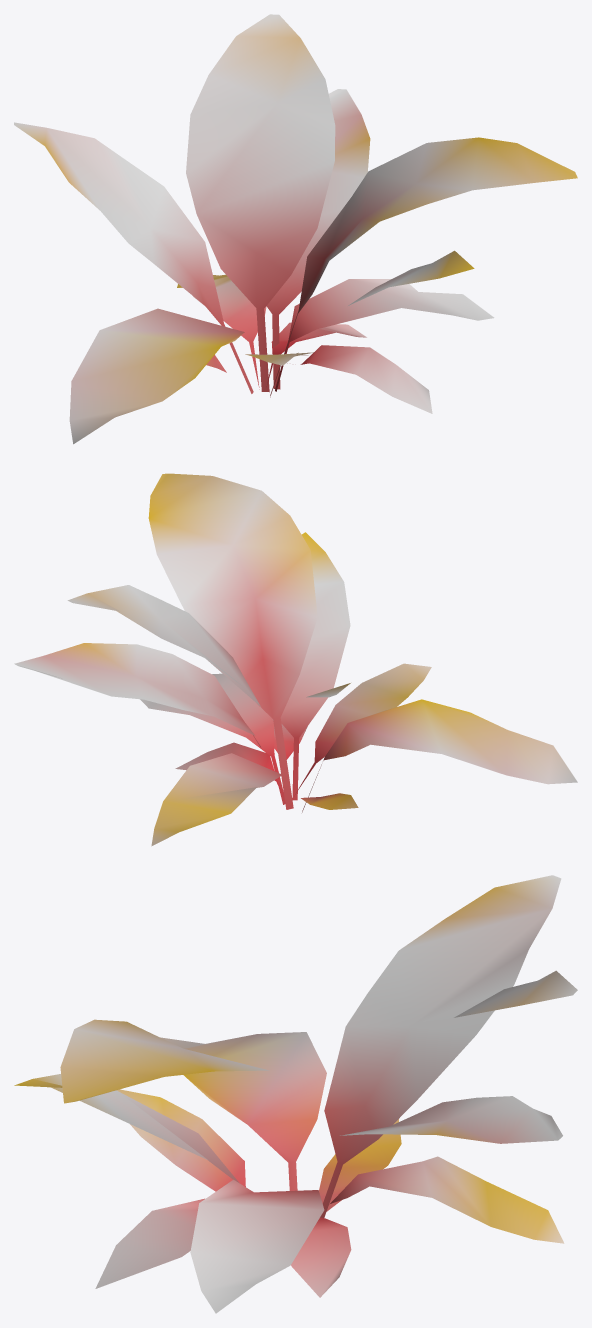
File: plant.glb
The picture shows the model from 3 angles, top to bottom: view 1: azimuth 30°, elevation 25°; view 2: azimuth 150°, elevation 25°; view 3: azimuth 270°, elevation 25°; orthographic projection. The views are drawn at different scales.
Parts seen in each view (by area): view 1: plant; view 2: plant; view 3: plant.
Boxes of the visible parts, x1,y1,x2,y2 form: plant: [14, 14, 577, 444]; plant: [14, 473, 577, 846]; plant: [14, 875, 577, 1313].
Size of the model in its own units: 4.99 by 2.76 by 4.14.
